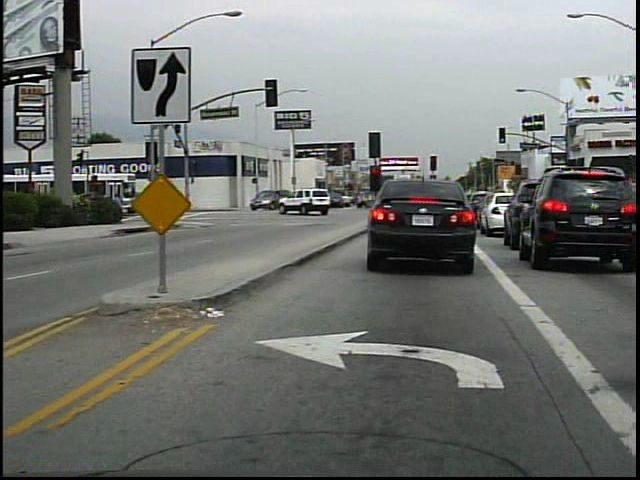person: (111, 188, 131, 224)
